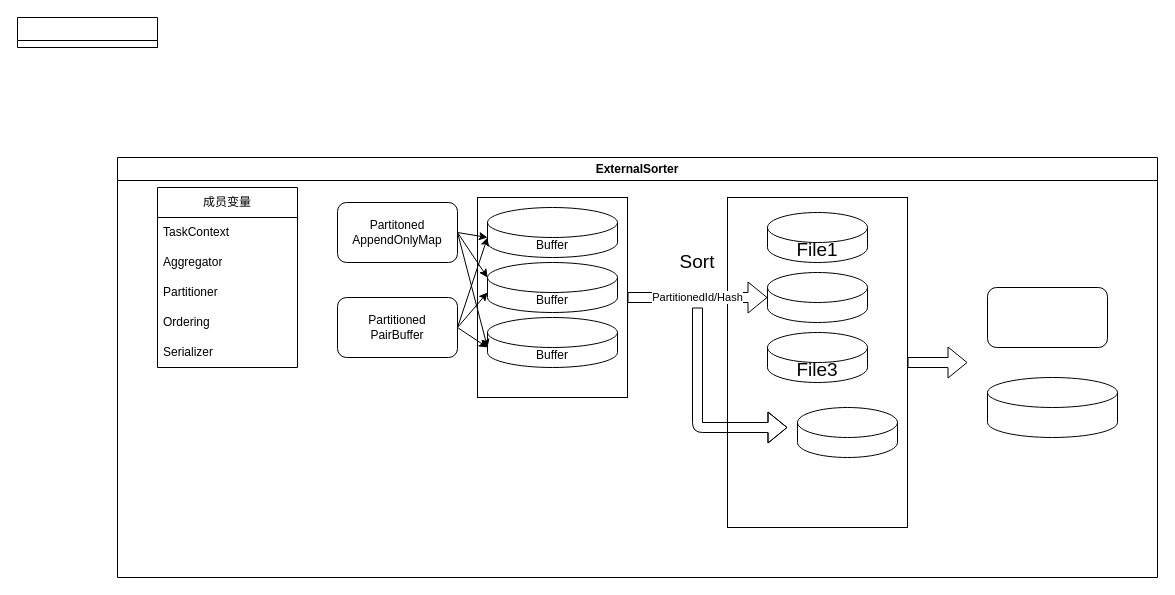
This 1175x595 diagram has some shape labels left out. The shapes that lost their labels are listed below. From the top down, each one's centre as x and y in pixels, then its label:
At [87,32]: "SortShuffleWriter".
At [817,297]: "File2".
At [1047,317]: "Iterator".
At [1052,407]: "WriteFile".
At [847,432]: "WriteIndexFile".
